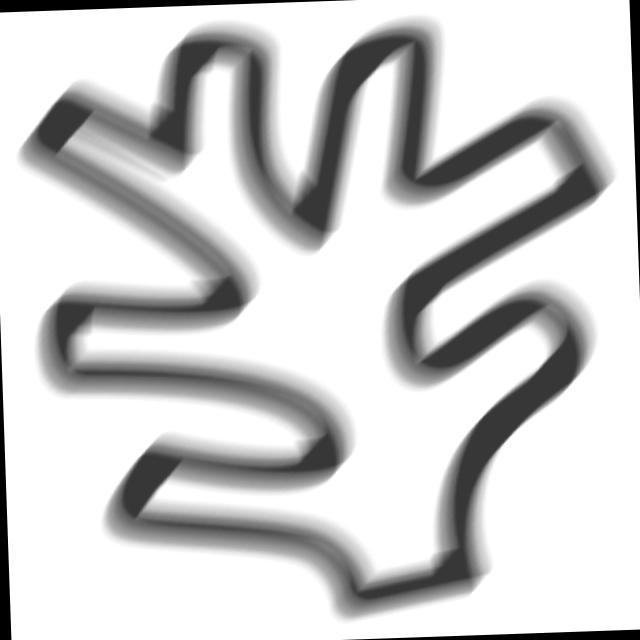coral: (7, 1, 640, 640)
